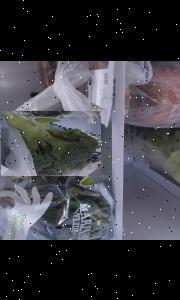Brocoli: (1, 110, 101, 175)
Lechuga/Endivia: (126, 120, 180, 192)
